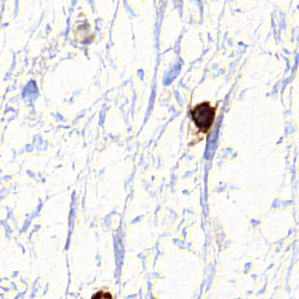Lymphocyte: (190, 101, 215, 135)
